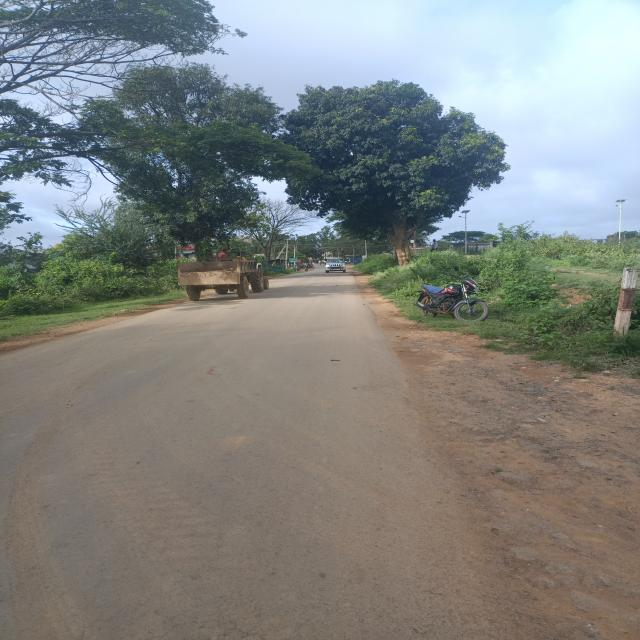Tractor: (174, 246, 288, 303)
